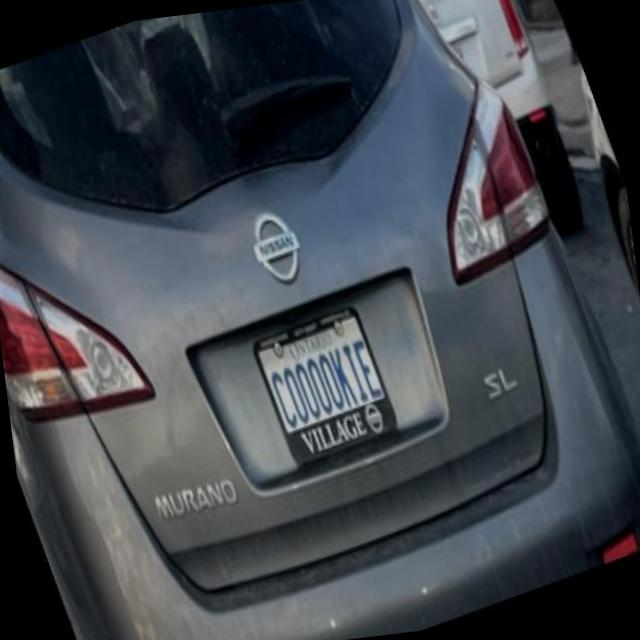LicensePlate: (247, 301, 400, 468)
